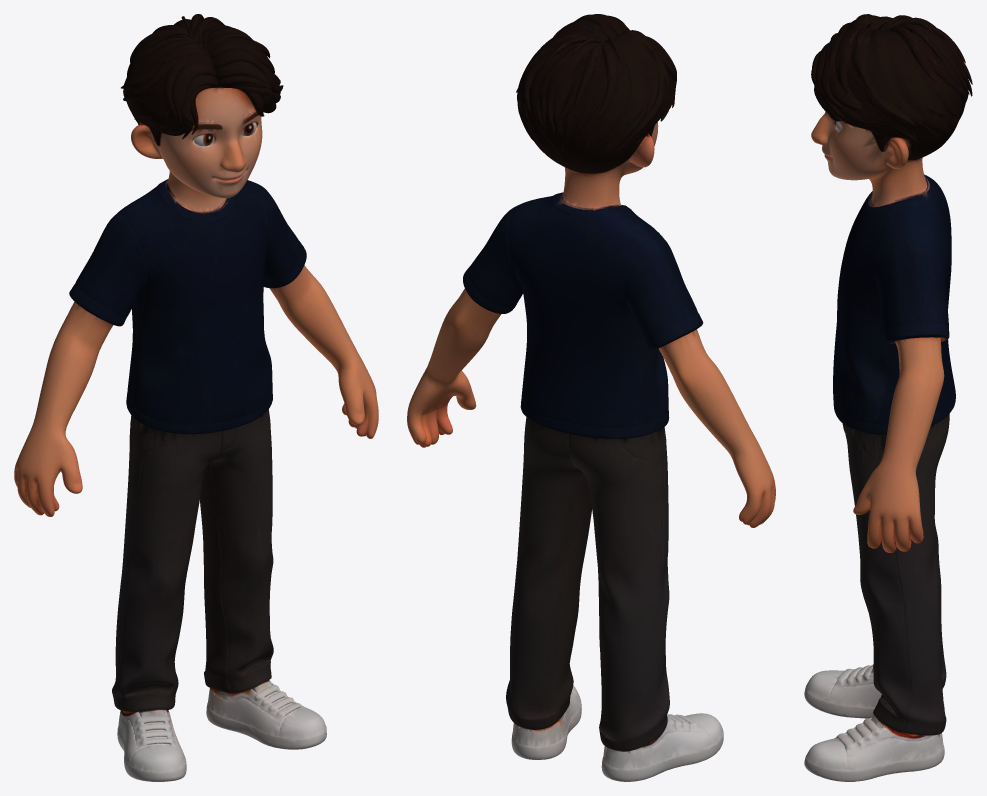
The model's file is avatar-a.glb.
3 views of the same model, side by side, from view 1: azimuth 30°, elevation 25°; view 2: azimuth 150°, elevation 25°; view 3: azimuth 270°, elevation 25° (orthographic).
Parts seen in each view (by area): view 1: material; view 2: material; view 3: material.
Part boxes in pixels (box(x1,y1,x2,y2)): material: box(14, 14, 378, 781); material: box(407, 14, 775, 781); material: box(804, 14, 972, 781).
Size of the model in its own units: 0.6017 by 1.16 by 0.2464.
Materials: 1 (1 with a texture image).
